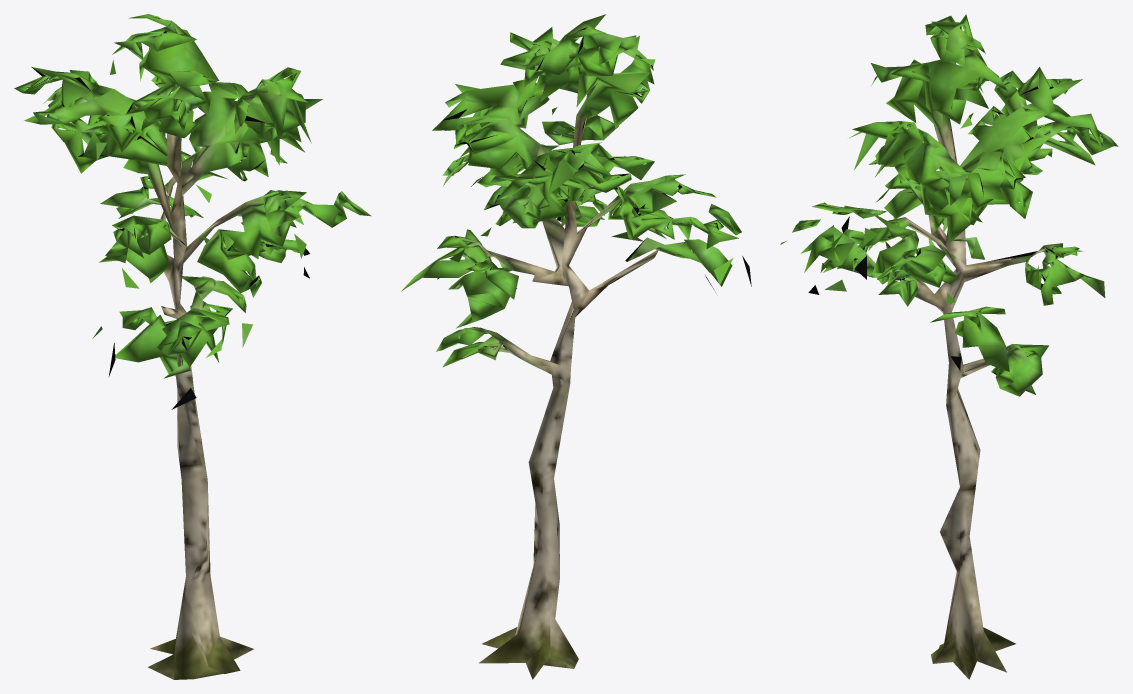
File: tree_birch.glb
3 renders of one model, left to right at view 1: azimuth 30°, elevation 25°; view 2: azimuth 150°, elevation 25°; view 3: azimuth 270°, elevation 25°, orthographic. The views are drawn at different scales.
Visible parts, largest first — view 1: tree_birch; view 2: tree_birch; view 3: tree_birch.
Part boxes in pixels (bbox=[...]): tree_birch: bbox=[14, 14, 371, 679]; tree_birch: bbox=[401, 14, 751, 679]; tree_birch: bbox=[780, 14, 1118, 679].
Size of the model in its own units: 3.37 by 7.45 by 3.74.
1 material, 1 textured.
